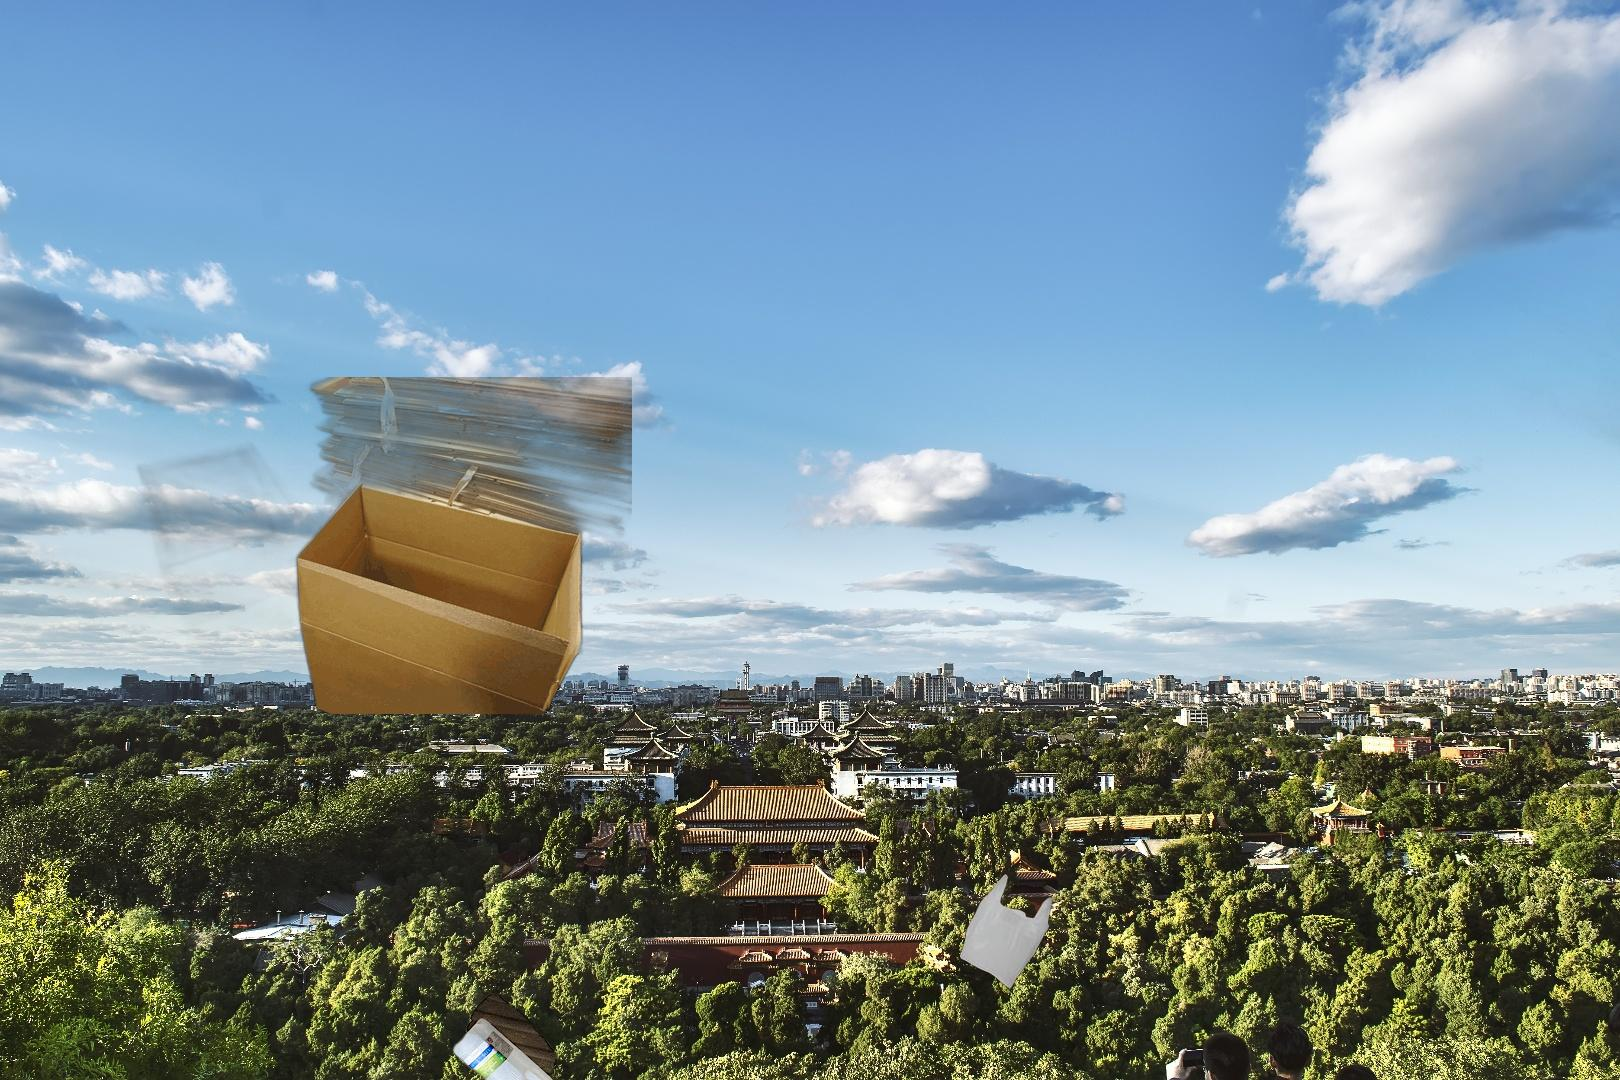metal-cans: (1368, 195, 1620, 567), (645, 840, 1016, 1080)
plastic-bag: (957, 873, 1057, 990)
plastic-bottles: (450, 708, 870, 1080)
trashbox-cardboard: (127, 377, 632, 714)
